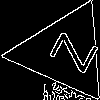Z: (39, 27, 99, 74)
